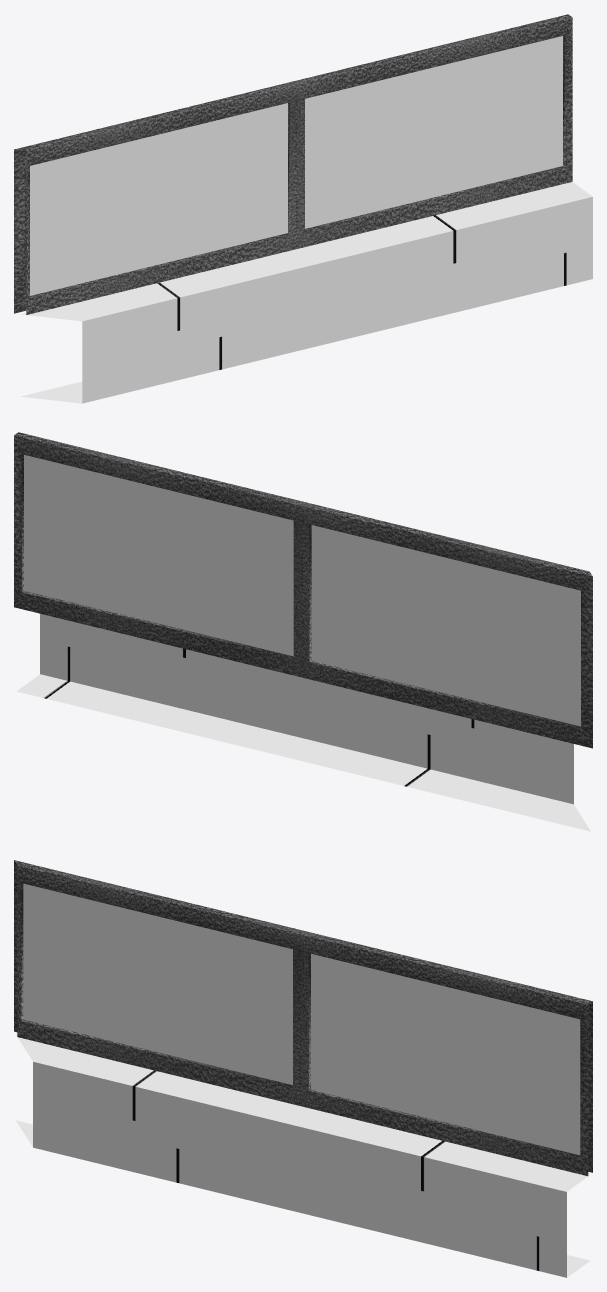
File: Parapet02_350cmAngle2.FBX
3 renders of one model, top to bottom at view 1: azimuth 30°, elevation 25°; view 2: azimuth 150°, elevation 25°; view 3: azimuth 330°, elevation 25°, orthographic. The views are drawn at different scales.
Visible parts, largest first — view 1: Parapet02_350cmAngle2; view 2: Parapet02_350cmAngle2; view 3: Parapet02_350cmAngle2.
Boxes of the visible parts, x1,y1,x2,y2 form: Parapet02_350cmAngle2: (14,14,592,403); Parapet02_350cmAngle2: (14,432,592,831); Parapet02_350cmAngle2: (14,860,592,1277).
Bounding box in the file's own units: 352 × 150 × 27.5.
